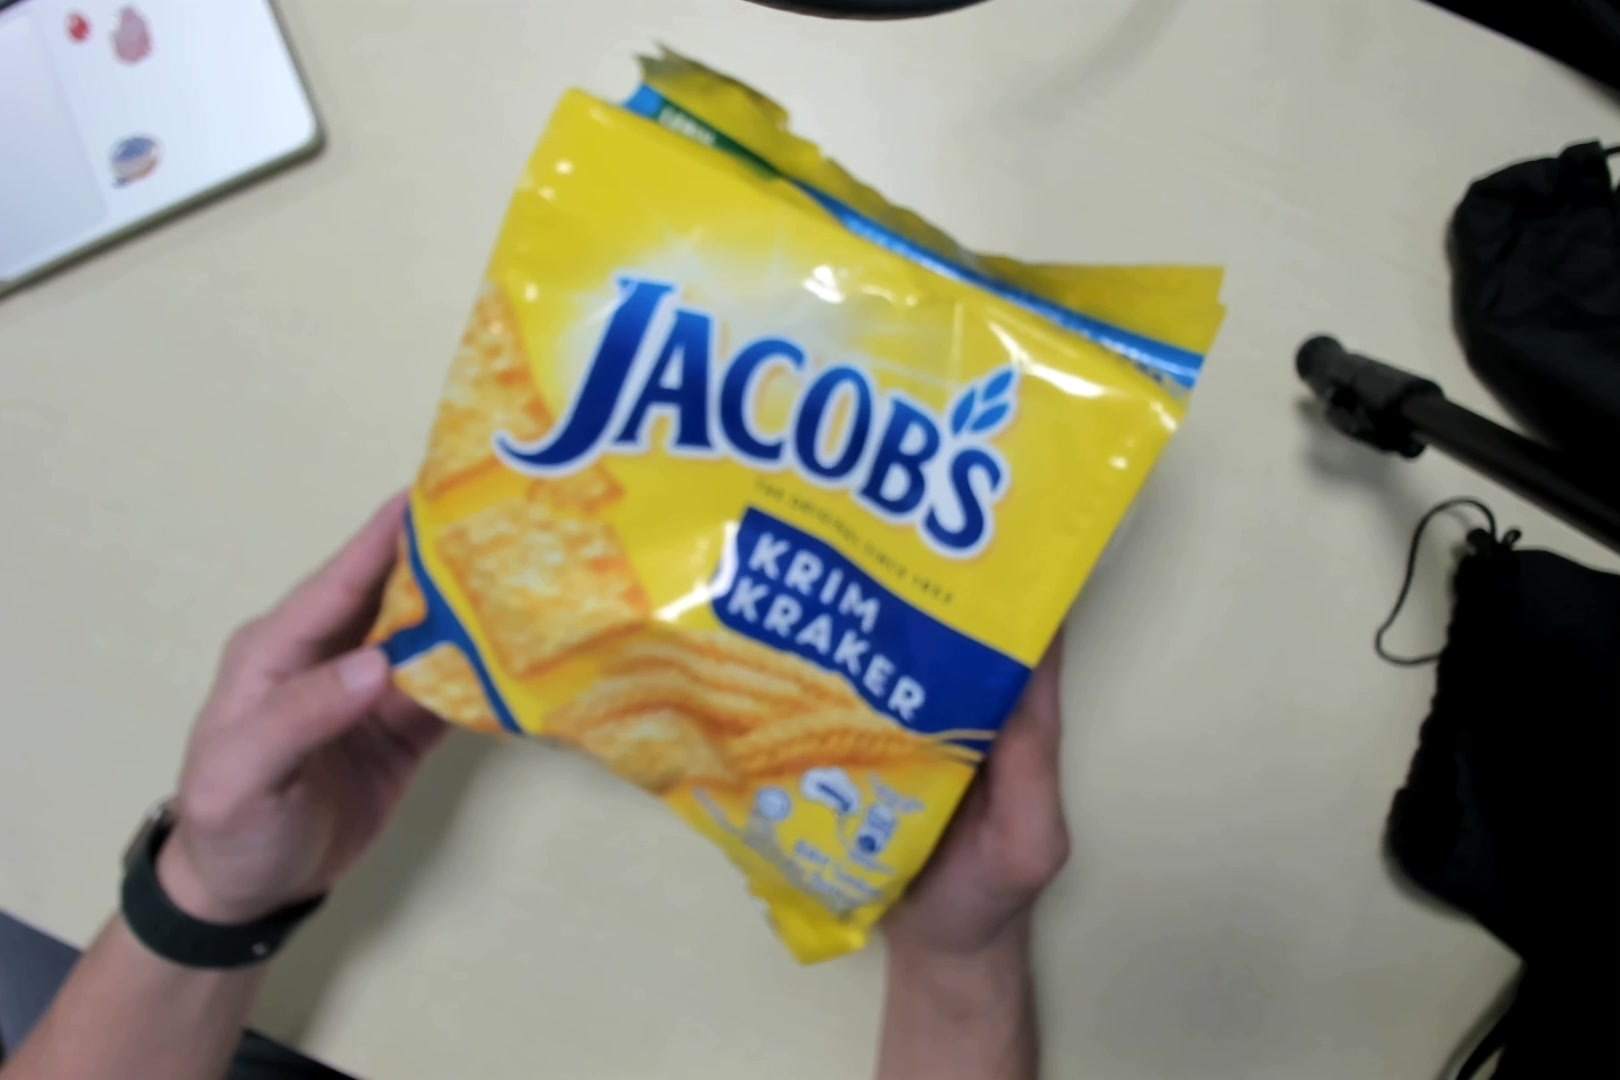BiscuitCrackersCookies_500-599g_Halal_NonHealthy: (375, 61, 1207, 938)
